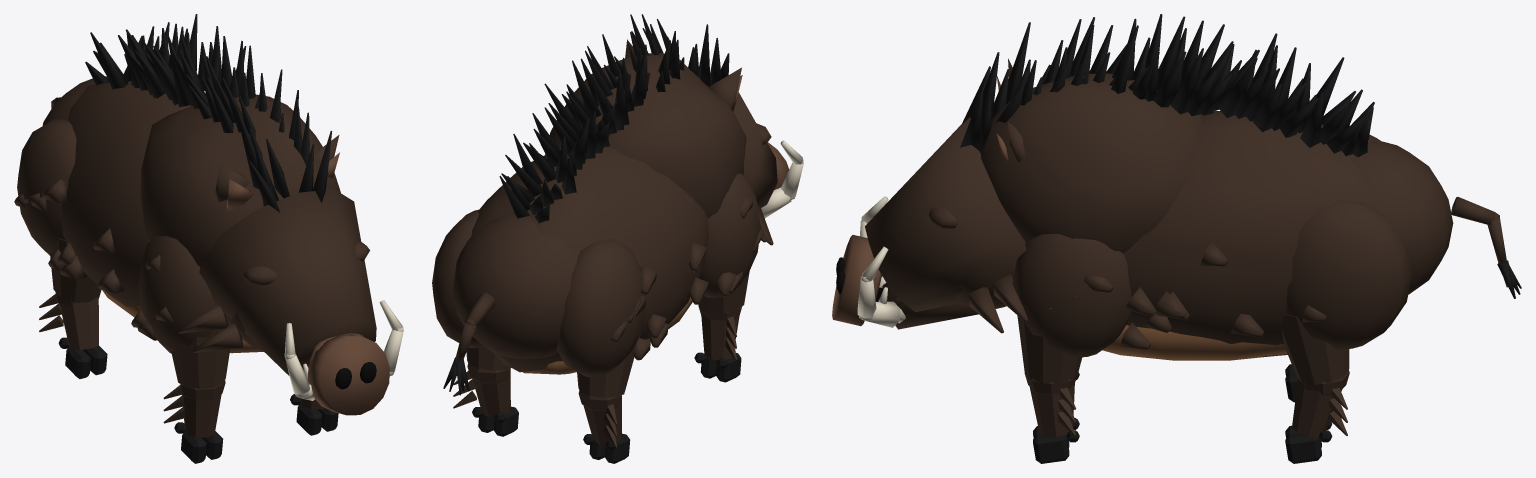
Rendered from boar.glb.
3 renders of one model, left to right at view 1: azimuth 30°, elevation 25°; view 2: azimuth 150°, elevation 25°; view 3: azimuth 270°, elevation 25°, orthographic. The views are drawn at different scales.
Parts seen in each view (by area): view 1: Body, Leg0, Leg2, Leg1; view 2: Body, Leg2, Leg3, Leg0; view 3: Body, Leg3, Leg1.
Part boxes in pixels (<box>): Body: <box>14,14,403,415</box>; Leg0: <box>163,321,230,463</box>; Leg2: <box>39,238,107,378</box>; Leg1: <box>290,394,338,435</box>; Body: <box>432,14,803,395</box>; Leg2: <box>577,331,641,463</box>; Leg3: <box>453,346,518,436</box>; Leg0: <box>694,271,749,382</box>; Body: <box>832,14,1521,360</box>; Leg3: <box>1281,314,1349,463</box>; Leg1: <box>1017,315,1082,463</box>.
Size of the model in its own units: 0.5246 by 0.9121 by 1.42.
